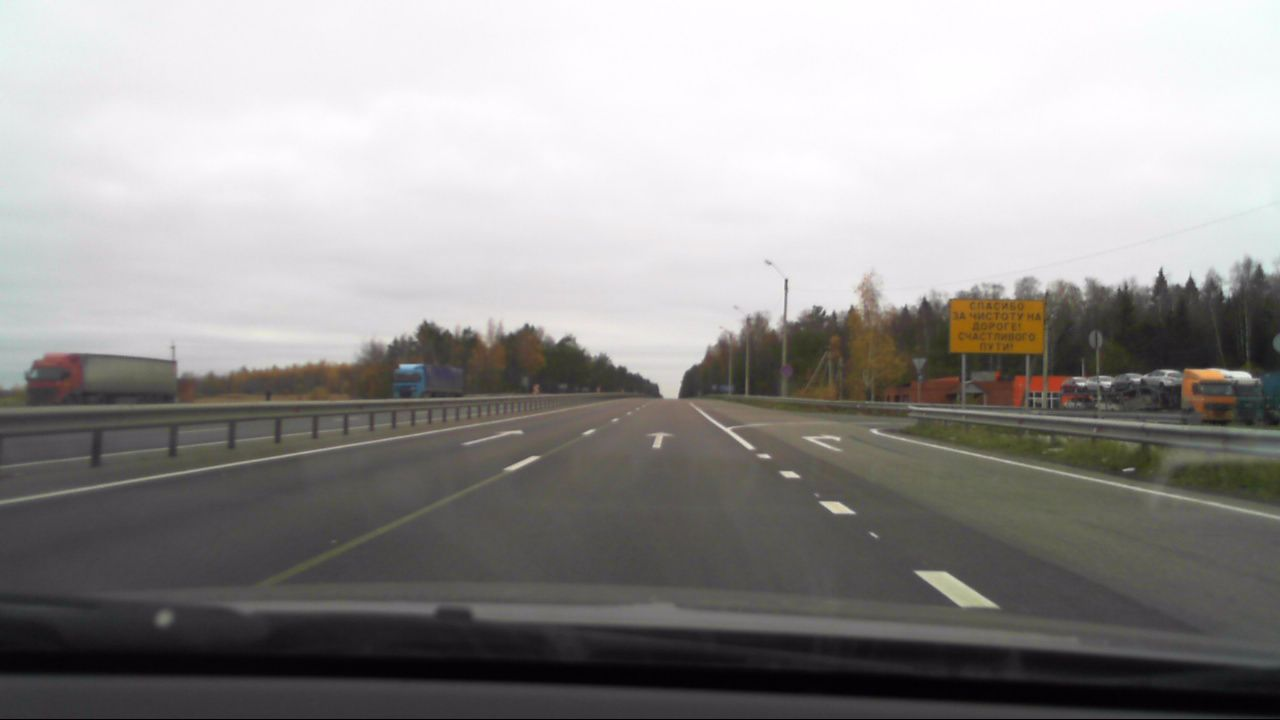No Parking: (777, 363, 797, 381)
